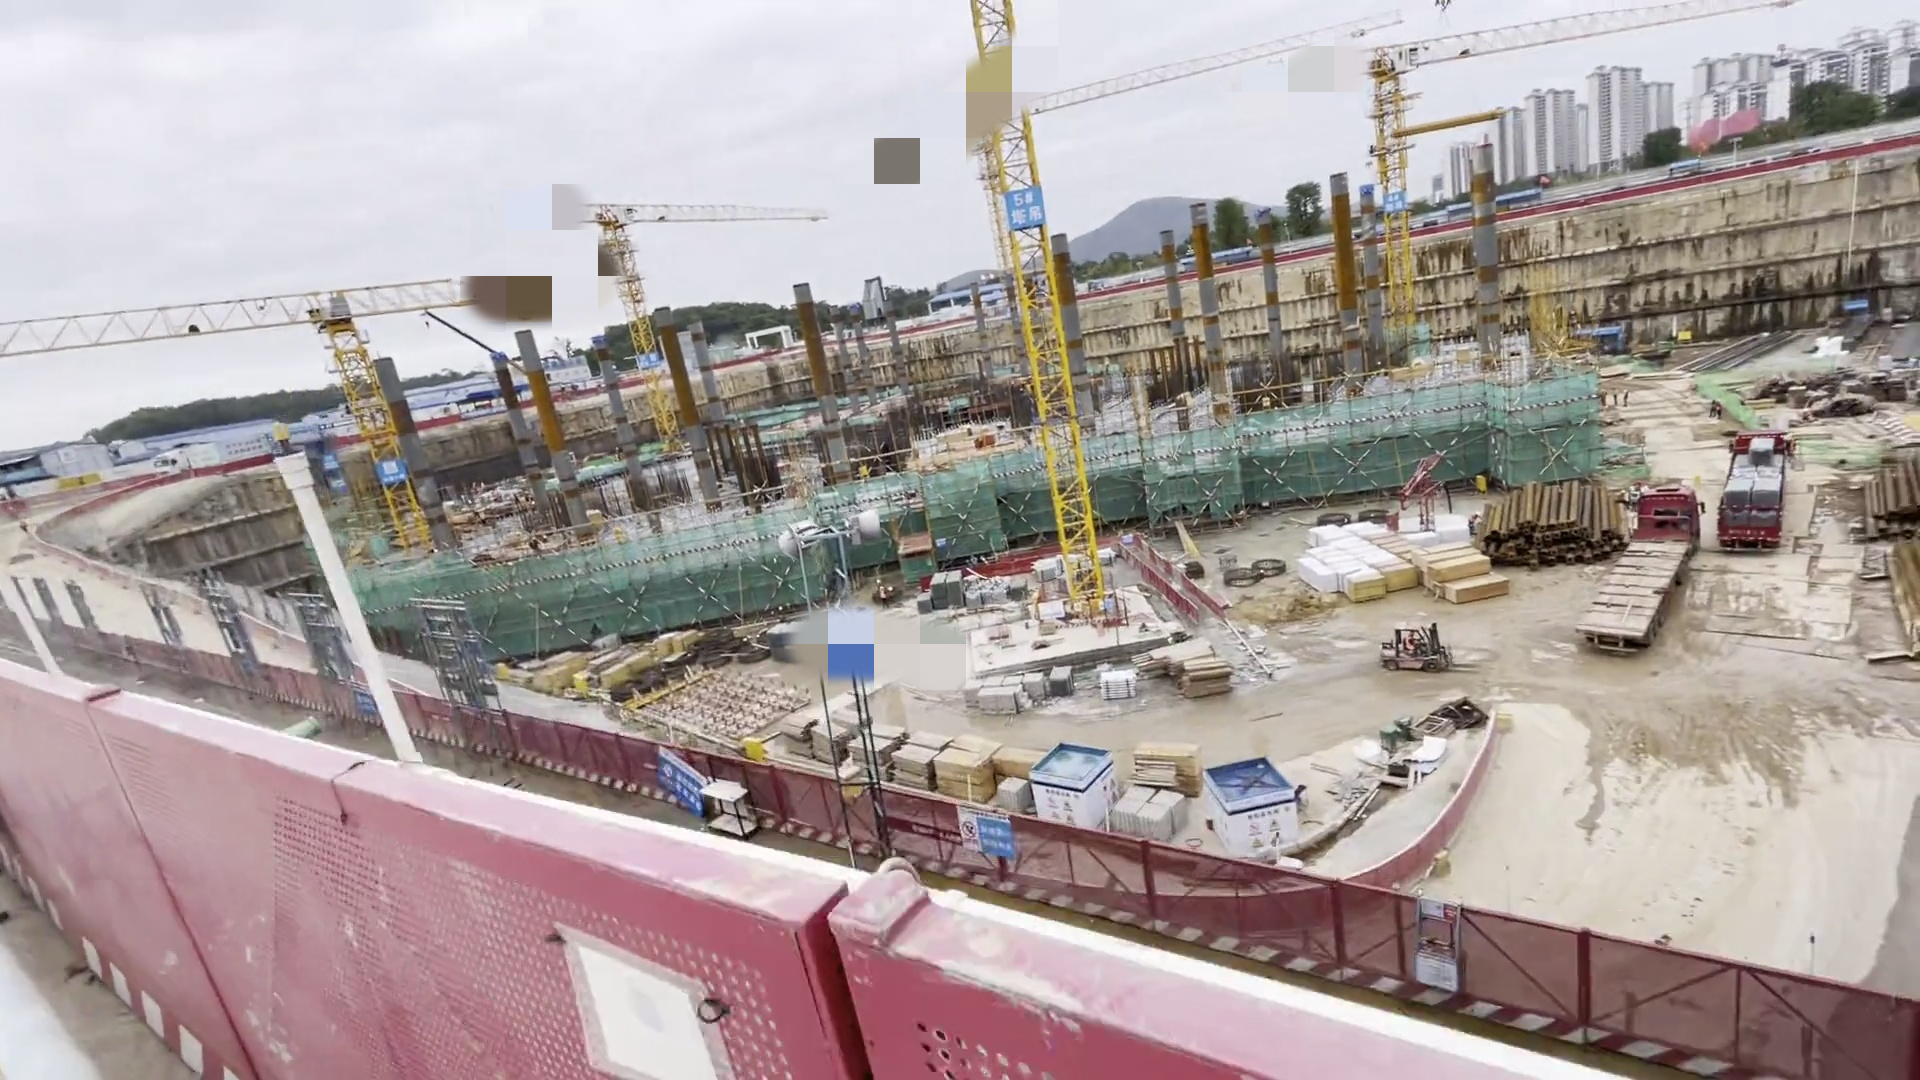board: (1290, 513, 1509, 628)
fence: (1, 654, 1915, 1080)
slogan: (653, 742, 719, 818), (952, 799, 1022, 858), (375, 446, 411, 491), (320, 448, 349, 502), (353, 691, 378, 723)
wood: (786, 700, 1093, 820), (1127, 728, 1234, 796)
